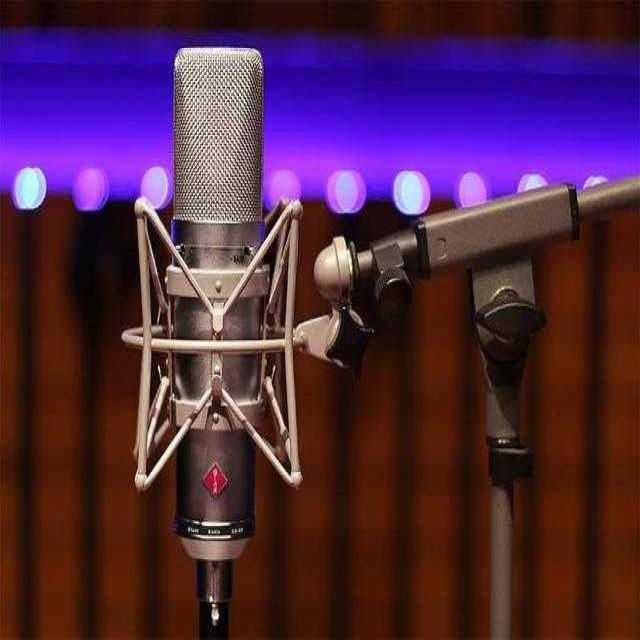microphone: (167, 47, 269, 574)
